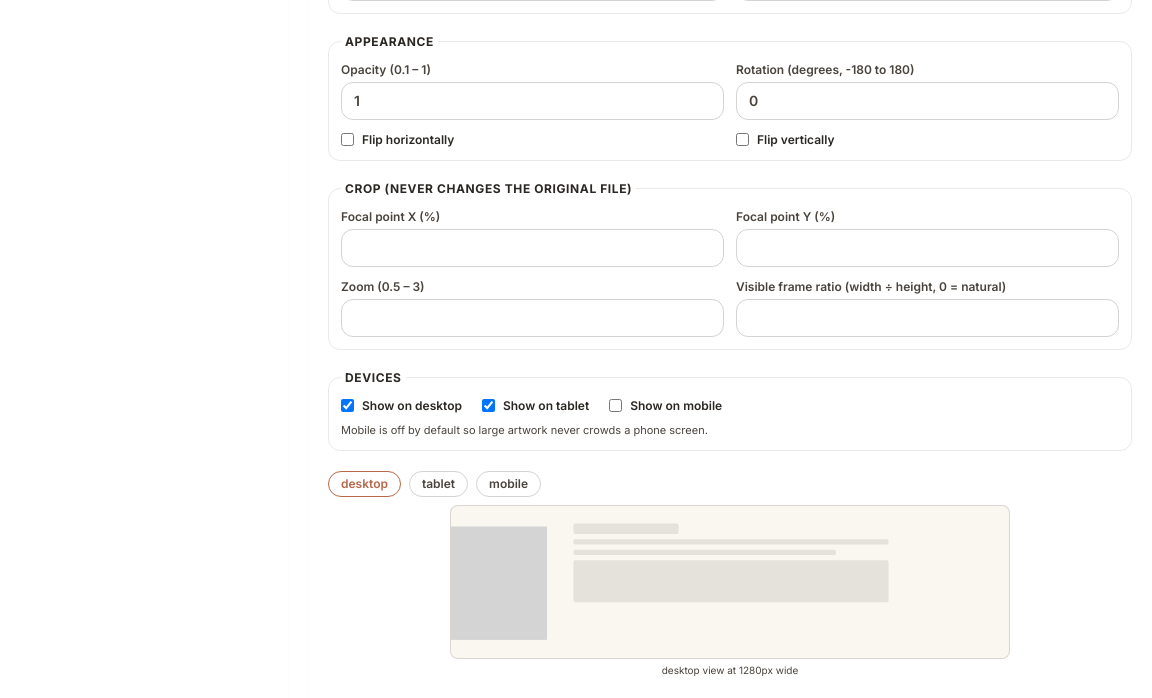
Test: Decorative artwork admin page › shows a preview that reflects the settings and hides on a disabled device
The width and height of the screenshot is (1152, 698).
(page scrolled)
Expected: the picture is shown, [451,526,547,640]
Click the button "mobile" at (509, 484), box [476,471,541,497]
(page scrolled)
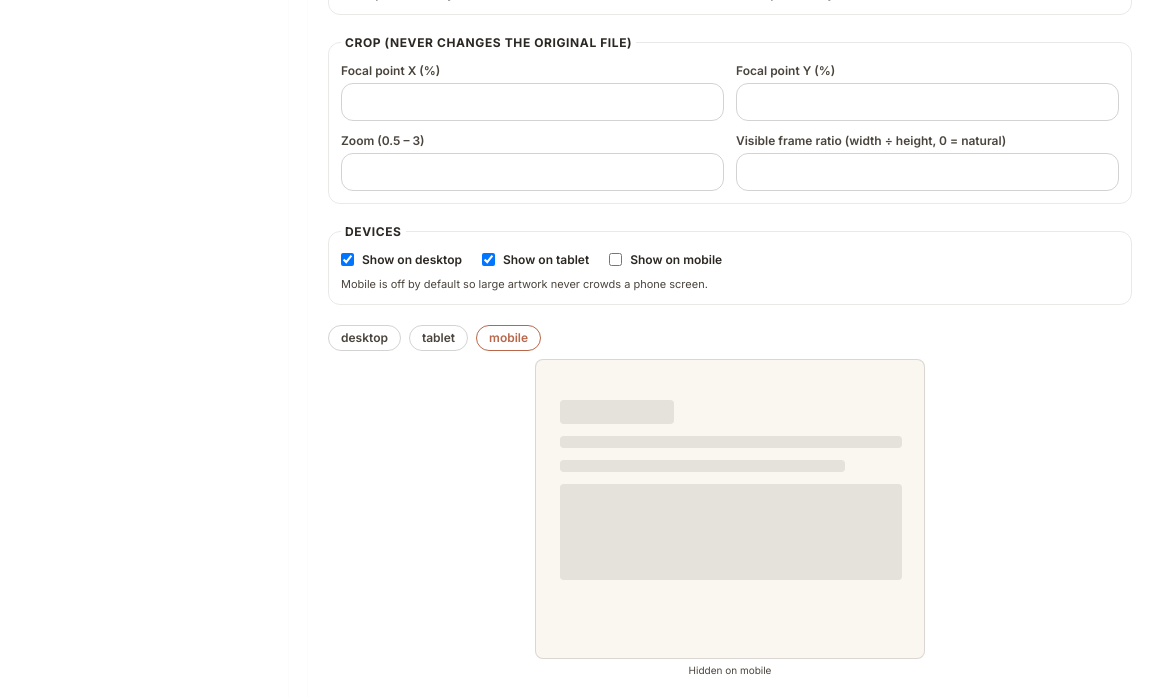
Expected: the text "Hidden on mobile" is shown, [688,664,771,676]
